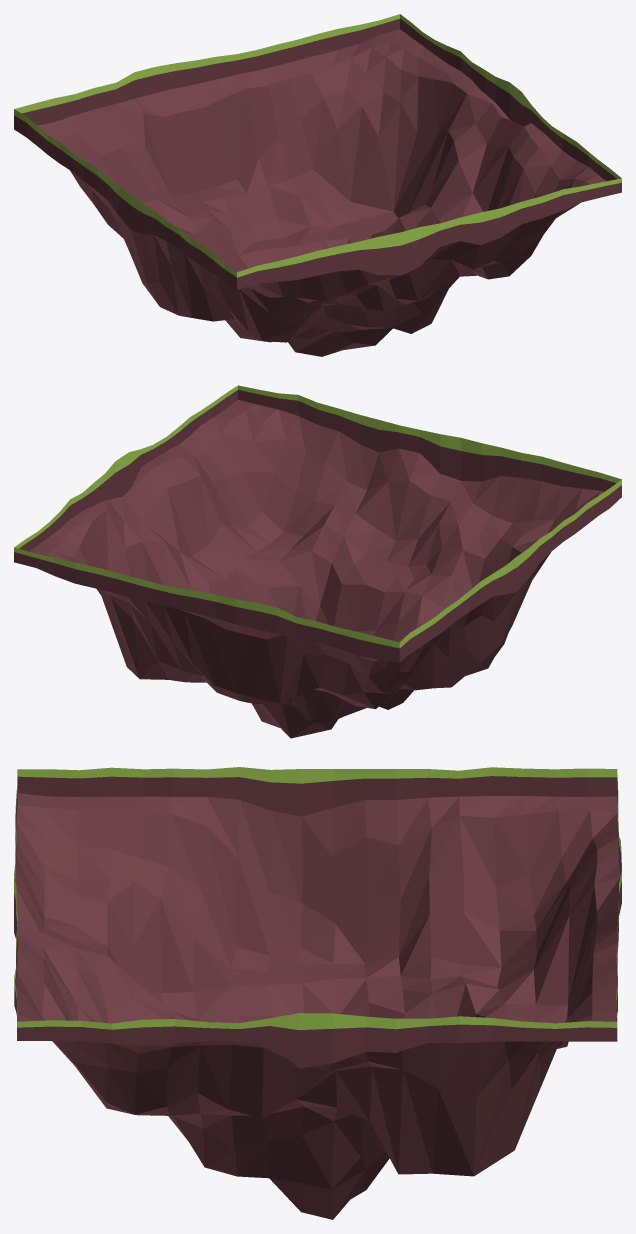
The model's file is forest-biome-bottom.glb.
3 renders of one model, top to bottom at view 1: azimuth 30°, elevation 25°; view 2: azimuth 150°, elevation 25°; view 3: azimuth 270°, elevation 25°, orthographic. The views are drawn at different scales.
Visible parts, largest first — view 1: Landscape-JAGGY.000; view 2: Landscape-JAGGY.000; view 3: Landscape-JAGGY.000.
Boxes of the visible parts, bbox=[...] form: Landscape-JAGGY.000: bbox=[14, 14, 621, 356]; Landscape-JAGGY.000: bbox=[14, 385, 621, 738]; Landscape-JAGGY.000: bbox=[14, 767, 621, 1219].
Bounding box in the file's own units: 2 × 1.11 × 2.
